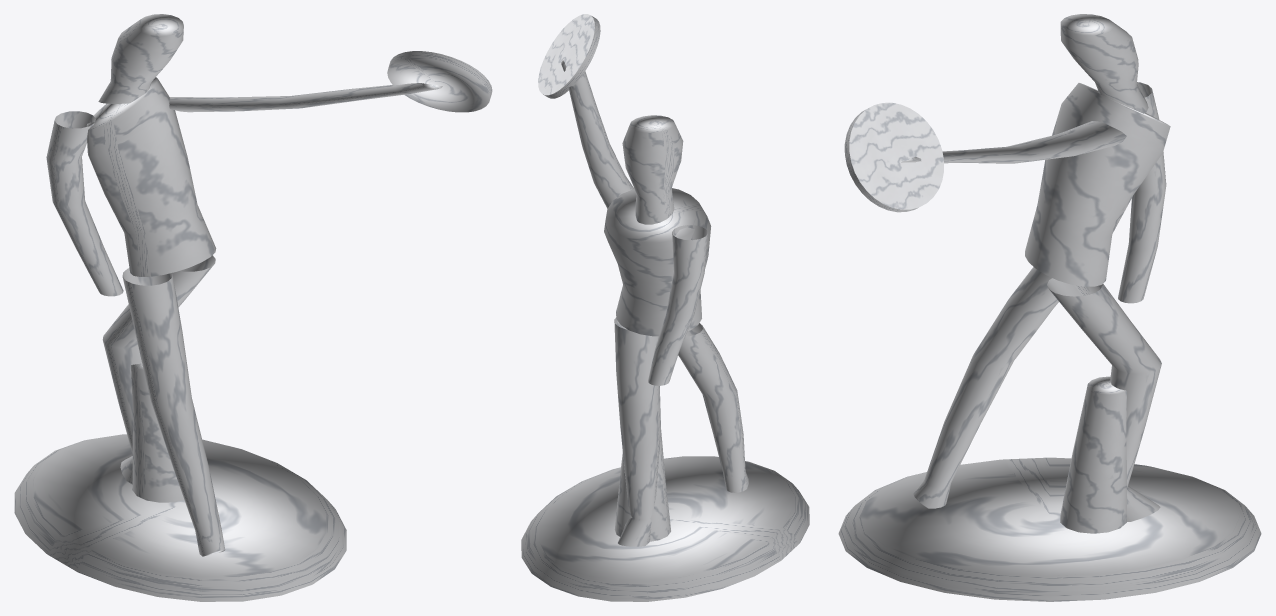
The model's file is discus_thrower.glb.
The picture shows the model from 3 angles, left to right: view 1: azimuth 30°, elevation 25°; view 2: azimuth 150°, elevation 25°; view 3: azimuth 270°, elevation 25°; orthographic projection. The views are drawn at different scales.
Visible parts, largest first — view 1: Discus Thrower; view 2: Discus Thrower; view 3: Discus Thrower.
Part boxes in pixels (bbox=[...]): Discus Thrower: bbox=[14, 14, 492, 601]; Discus Thrower: bbox=[521, 14, 809, 601]; Discus Thrower: bbox=[838, 14, 1261, 601].
Bounding box in the file's own units: 1.37 × 1.8 × 1.34.
Materials: 1 (1 with a texture image).
